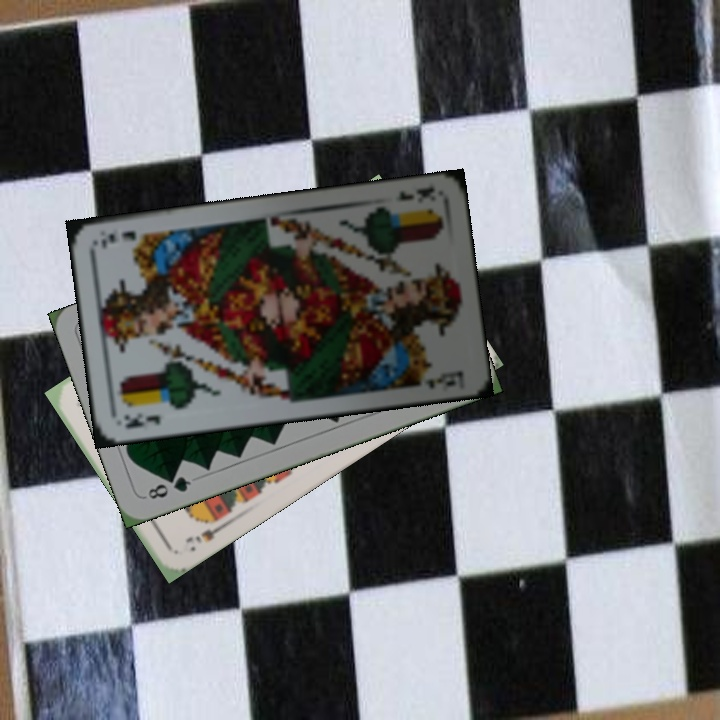EK: (391, 182, 437, 206), (119, 410, 164, 431)
G8: (141, 472, 194, 502)
S9: (180, 512, 231, 546)
